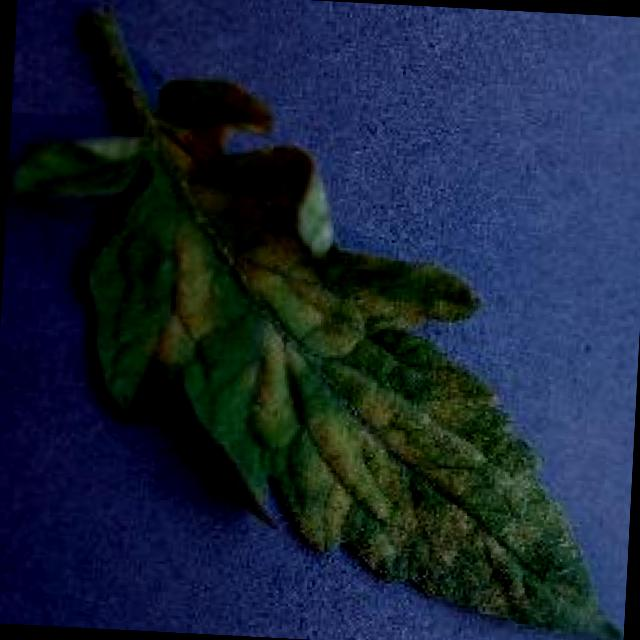leaf mold: (7, 11, 621, 640)
